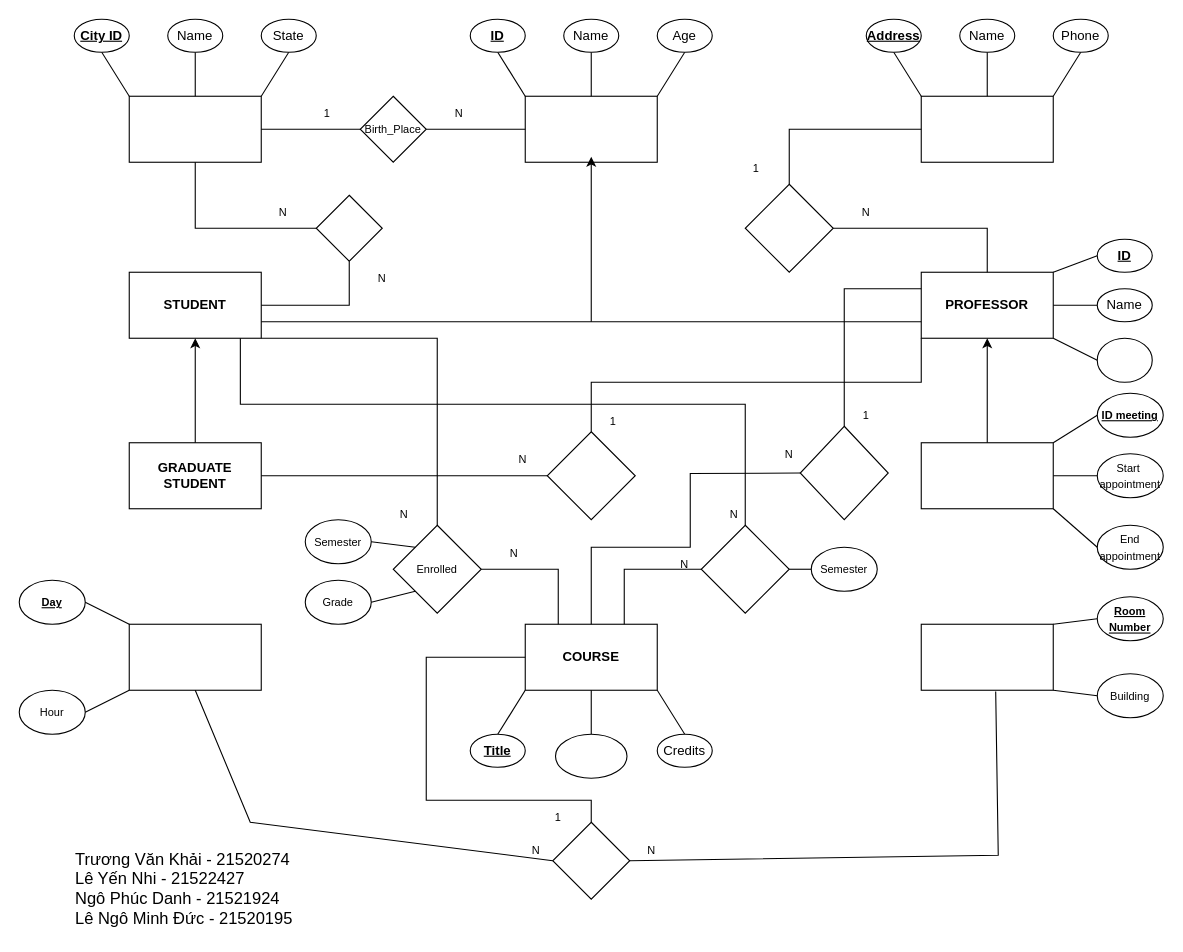
The diagram is 1183 pixels wide and 952 high, and some of its shapes have lost their labels. Each missing label, with the centre of its shape:
"Advised" goes at (x=590, y=475).
"Belongs" goes at (x=788, y=227).
"CITY" goes at (x=194, y=128).
"DEPARTMENT" goes at (x=986, y=128).
"Description" goes at (x=590, y=755).
"Meet" goes at (x=591, y=860).
"PERSON" goes at (x=590, y=128).
"Planned" goes at (x=744, y=568).
"Resident" goes at (x=348, y=227).
"ROOM" goes at (x=986, y=656).
"Taught_By" goes at (x=843, y=472).
"Tenure Status" goes at (x=1124, y=359).
"TIME" goes at (x=194, y=656).
"VISITING PROFESSOR" goes at (x=986, y=475).
